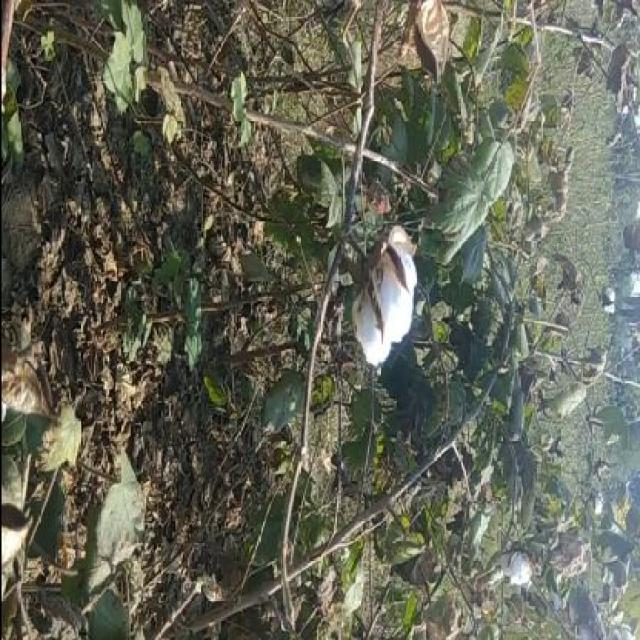cotton_ready: (322, 216, 423, 378)
